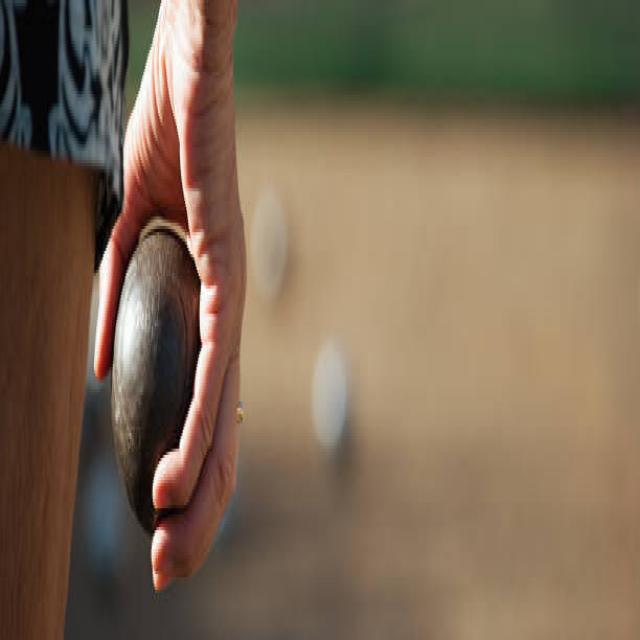petanque: (111, 213, 204, 561)
